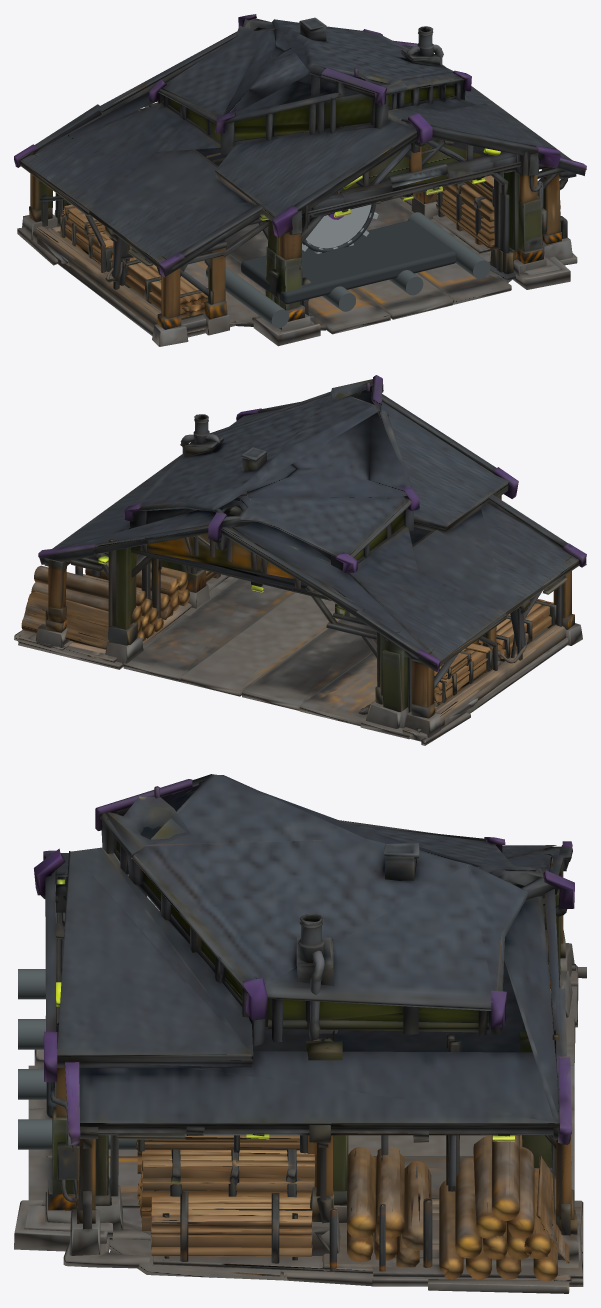
File: timberline_meshy_l01.glb
The picture shows the model from 3 angles, top to bottom: view 1: azimuth 30°, elevation 25°; view 2: azimuth 150°, elevation 25°; view 3: azimuth 270°, elevation 25°; orthographic projection. The views are drawn at different scales.
Parts seen in each view (by area): view 1: geometry_0, saw_carriage, conveyor_roller_0, circular_saw_blade, conveyor_roller_30, saw_rotor, conveyor_roller_20, conveyor_roller_10; view 2: geometry_0; view 3: geometry_0, conveyor_roller_30, conveyor_roller_0, conveyor_roller_20, conveyor_roller_10.
Part boxes in pixels (x1,y1,x2,y2): geometry_0: (14,14,586,346); saw_carriage: (241,220,456,304); conveyor_roller_0: (206,267,288,328); circular_saw_blade: (305,204,371,248); conveyor_roller_30: (407,212,490,278); saw_rotor: (302,204,378,253); conveyor_roller_20: (389,270,423,295); conveyor_roller_10: (322,286,355,311); geometry_0: (14,375,586,745); geometry_0: (14,774,586,1293); conveyor_roller_30: (18,1119,136,1149); conveyor_roller_0: (18,969,45,999); conveyor_roller_20: (18,1069,46,1099); conveyor_roller_10: (18,1019,45,1049).
Bounding box in the file's own units: 6.5 × 3.13 × 4.83.
6 materials, 1 textured.
